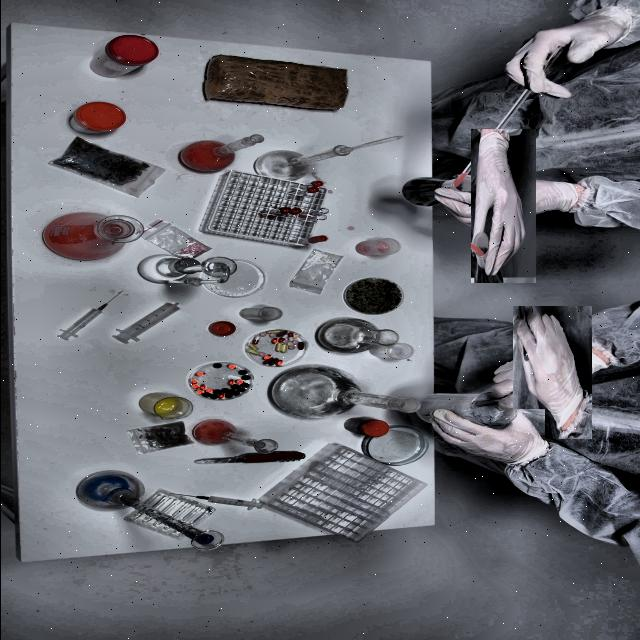gloved: (500, 11, 628, 114), (448, 151, 558, 261), (498, 319, 604, 426), (432, 409, 544, 475)
